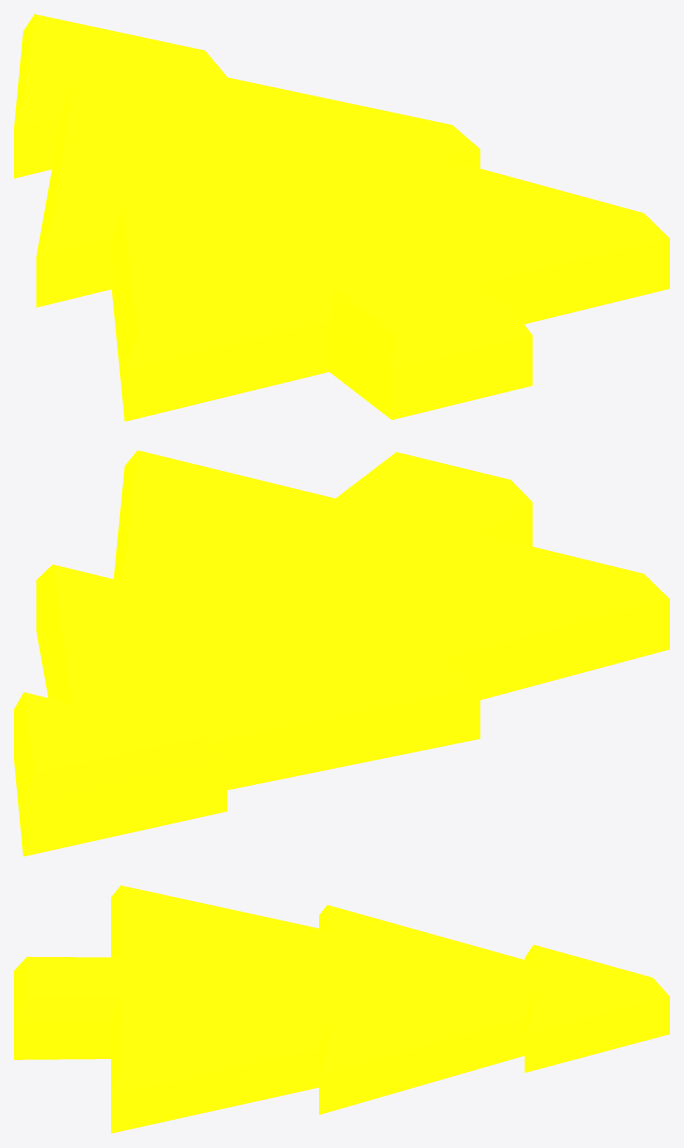
The model's file is gingerbread-tree-a.glb.
The picture shows the model from 3 angles, top to bottom: view 1: azimuth 30°, elevation 25°; view 2: azimuth 150°, elevation 25°; view 3: azimuth 270°, elevation 25°; orthographic projection. The views are drawn at different scales.
Parts seen in each view (by area): view 1: gingerbread_tree_a; view 2: gingerbread_tree_a; view 3: gingerbread_tree_a.
Part boxes in pixels (x1,y1,x2,y2): gingerbread_tree_a: (14,14,669,421); gingerbread_tree_a: (14,450,669,856); gingerbread_tree_a: (14,885,669,1133).
Bounding box in the file's own units: 0.0495 × 0.00656 × 0.069.
1 material, 1 textured.
